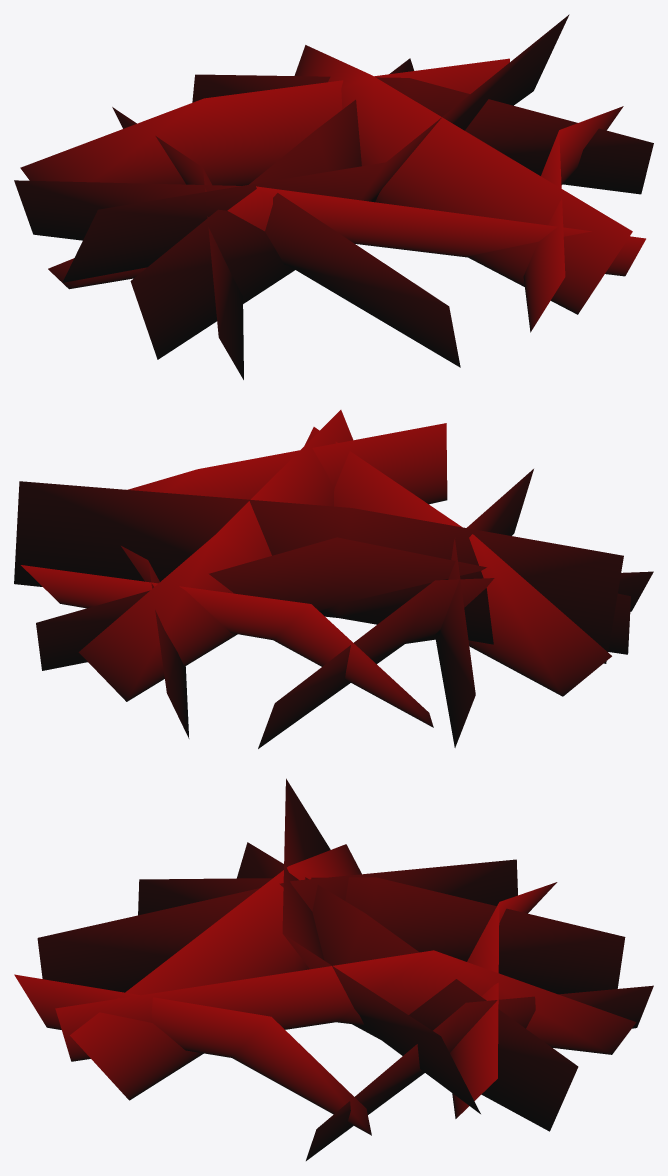
The model's file is Grass1.fbx.
The picture shows the model from 3 angles, top to bottom: view 1: azimuth 30°, elevation 25°; view 2: azimuth 150°, elevation 25°; view 3: azimuth 270°, elevation 25°; orthographic projection. The views are drawn at different scales.
Visible parts, largest first — view 1: Grass1; view 2: Grass1; view 3: Grass1.
Part boxes in pixels (x1,y1,x2,y2): Grass1: [14, 14, 653, 379]; Grass1: [14, 410, 653, 748]; Grass1: [14, 778, 653, 1160].
Bounding box in the file's own units: 152 × 33.98 × 148.
